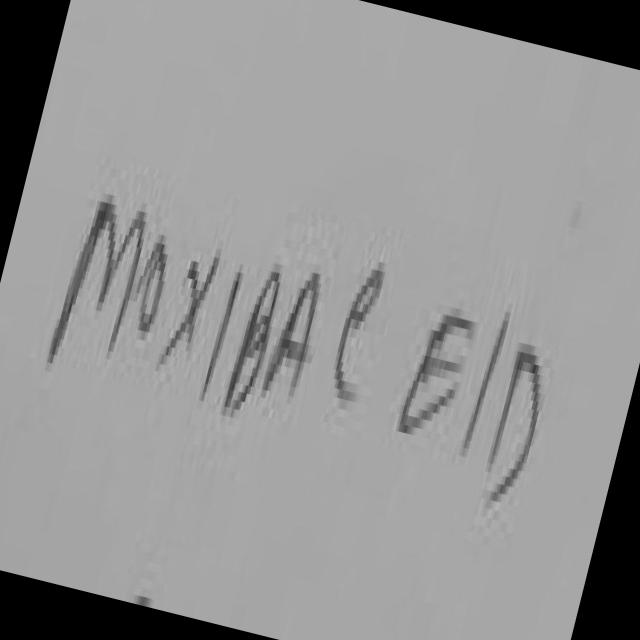A: (263, 273, 320, 403)
B: (224, 272, 278, 417)
C: (336, 270, 381, 398)
D: (486, 351, 540, 498)
E: (399, 315, 473, 431)
I: (201, 272, 242, 396)
M: (47, 201, 144, 359)
O: (137, 235, 166, 330)
X: (161, 258, 218, 365)
